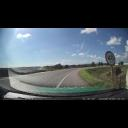speed_limit_40: (105, 51, 117, 66)
